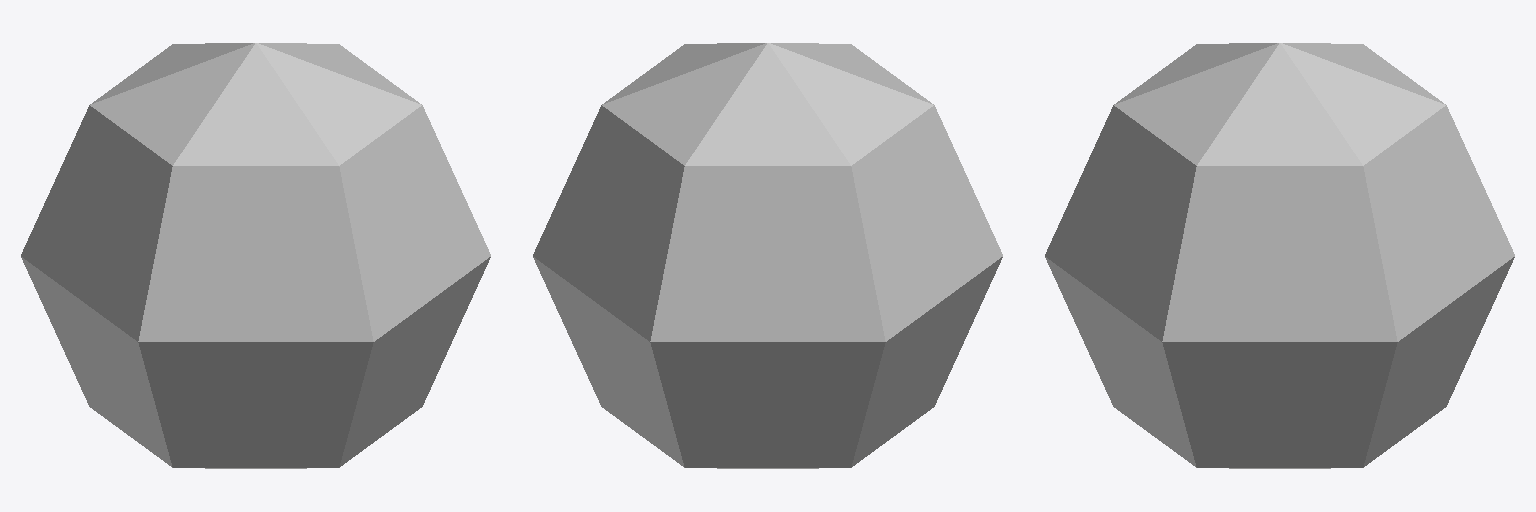
File: turbo.obj
3 views of the same model, side by side, from view 1: azimuth 30°, elevation 25°; view 2: azimuth 150°, elevation 25°; view 3: azimuth 270°, elevation 25° (orthographic).
Parts seen in each view (by area): view 1: Sphere; view 2: Sphere; view 3: Sphere.
Boxes of the visible parts, box(x1,y1,x2,y2) form: Sphere: box(21, 43, 490, 468); Sphere: box(533, 43, 1002, 468); Sphere: box(1045, 43, 1514, 468).
Size of the model in its own units: 34.64 by 40 by 40.